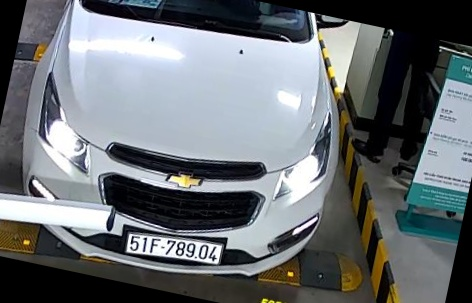plate: (120, 227, 227, 275)
